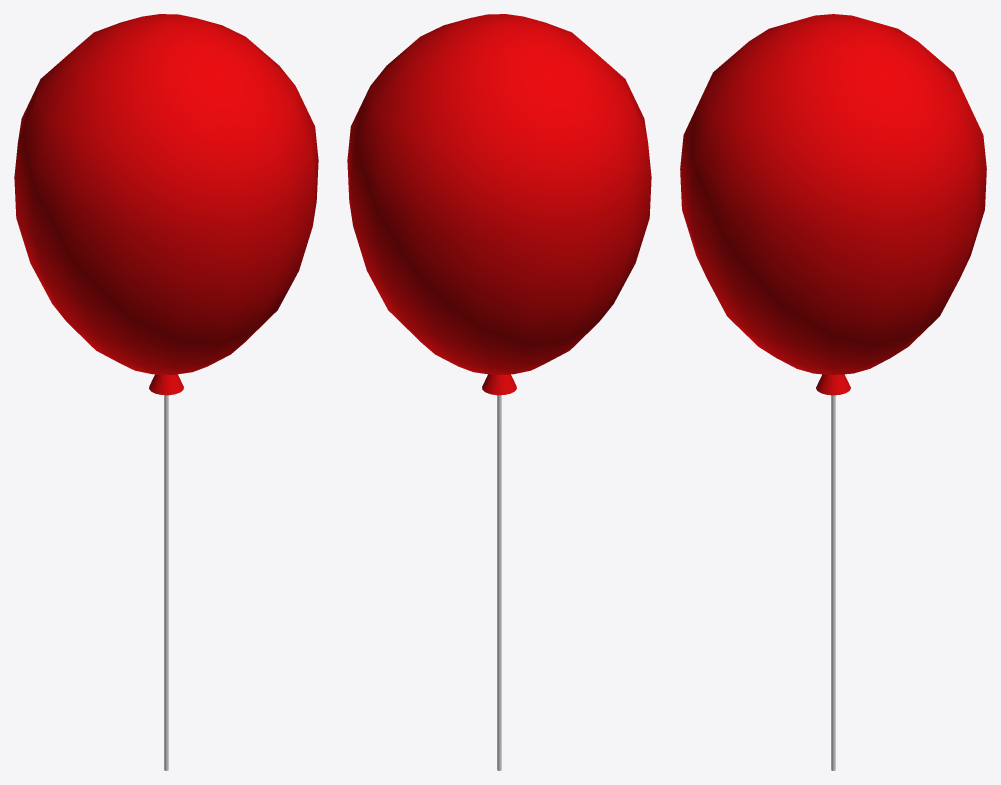
The model's file is baloon.glb.
3 views of the same model, side by side, from view 1: azimuth 30°, elevation 25°; view 2: azimuth 150°, elevation 25°; view 3: azimuth 270°, elevation 25° (orthographic).
Parts seen in each view (by area): view 1: Circle; view 2: Circle; view 3: Circle.
Part boxes in pixels (x1=…): Circle: x1=14, y1=14, x2=318, y2=770; Circle: x1=347, y1=14, x2=651, y2=770; Circle: x1=680, y1=14, x2=986, y2=770.
Bounding box in the file's own units: 0.6661 × 1.78 × 0.6661.
